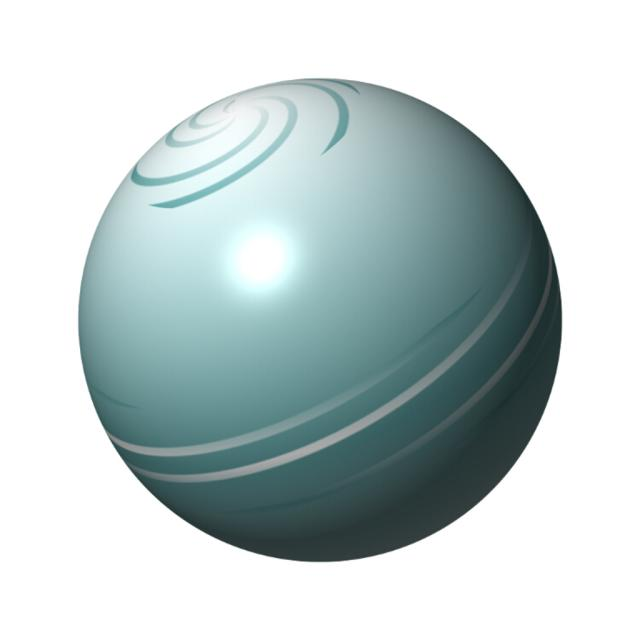Ball: (79, 78, 564, 559)
